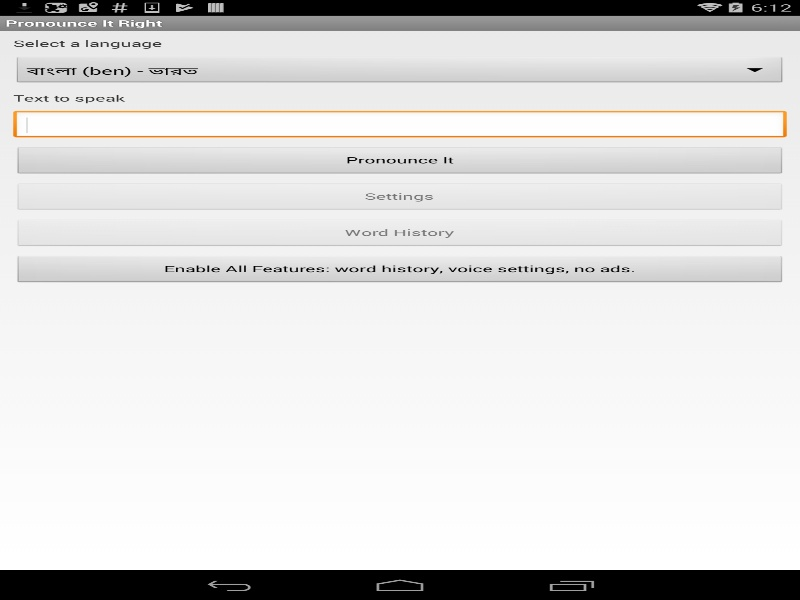Button: (13, 146, 786, 176), (13, 182, 786, 212), (13, 219, 786, 249), (13, 255, 786, 285)
Input: (13, 110, 786, 140)
